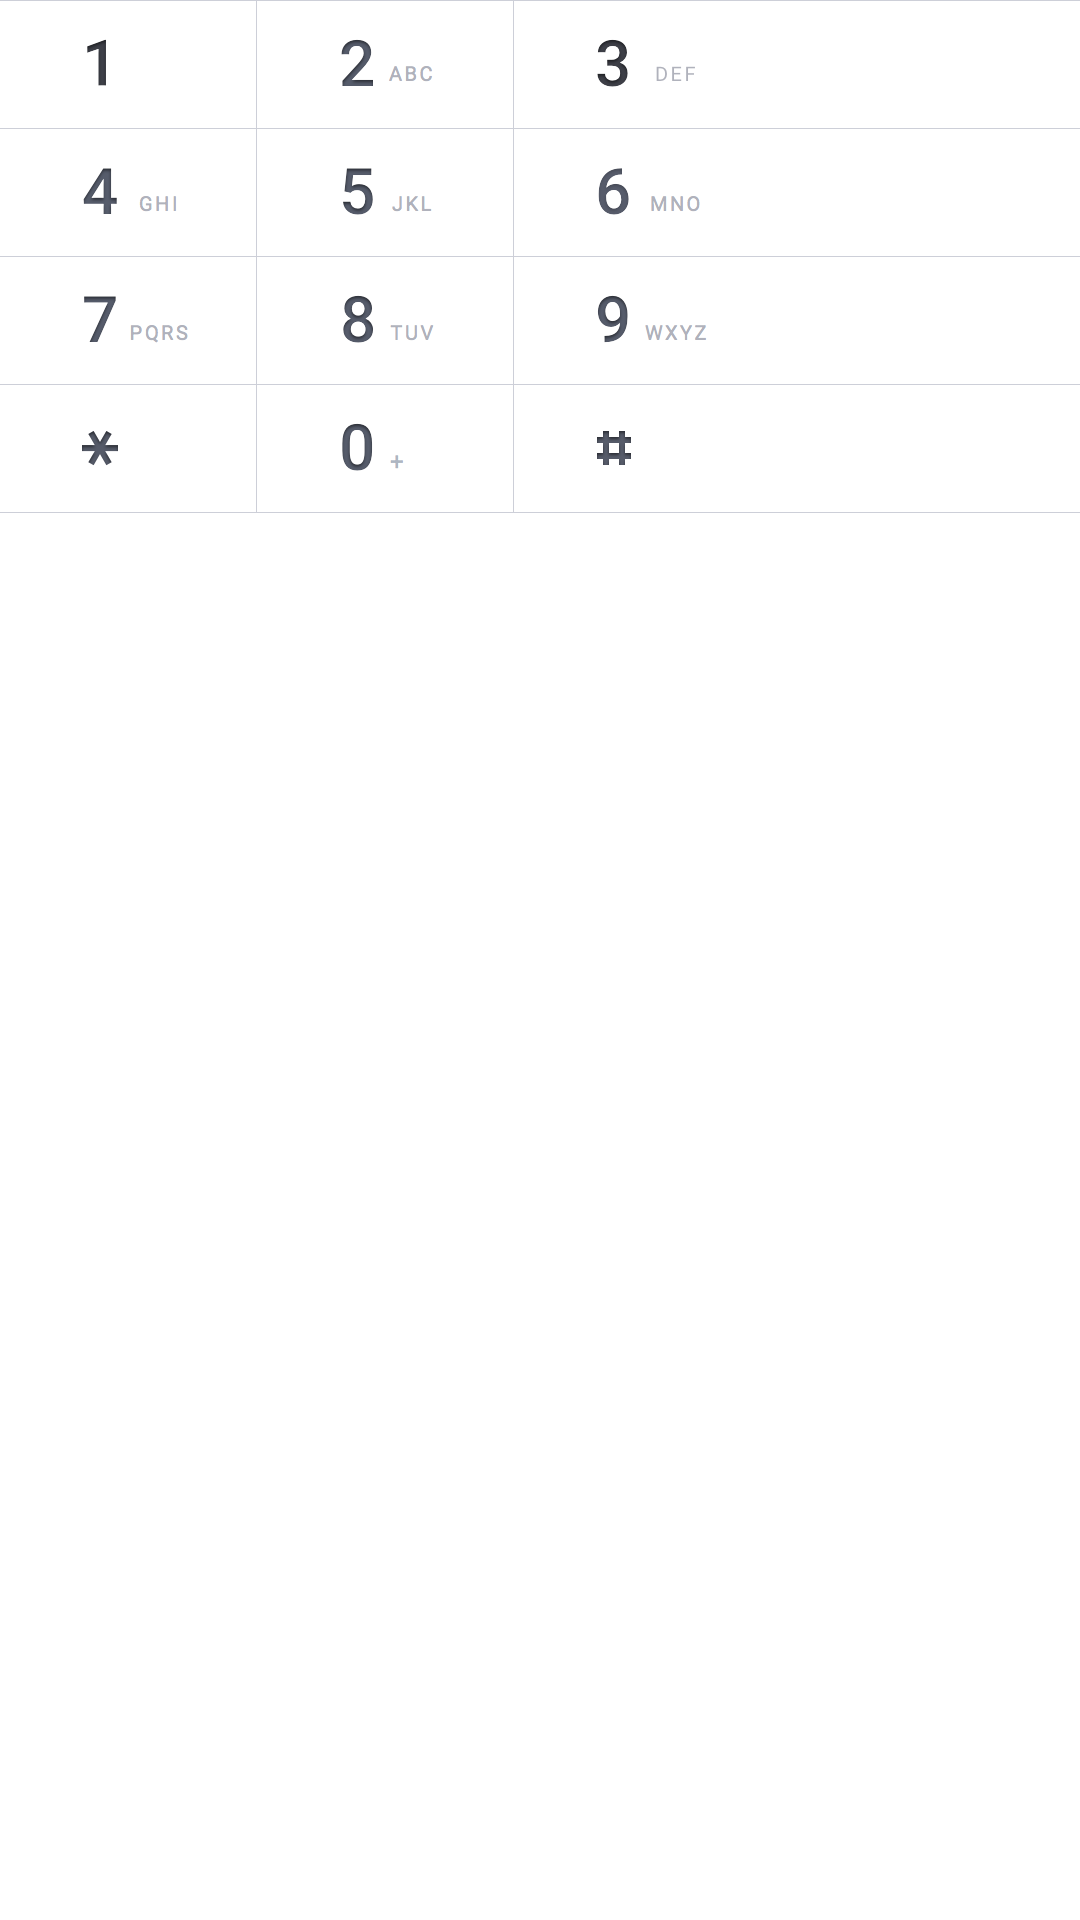

Icon click points for this 1080w x 1920h phone screenshot, format (x,y):
uiv dialtab num sharp: (614,448)
uiv dialtab num star: (100,448)
